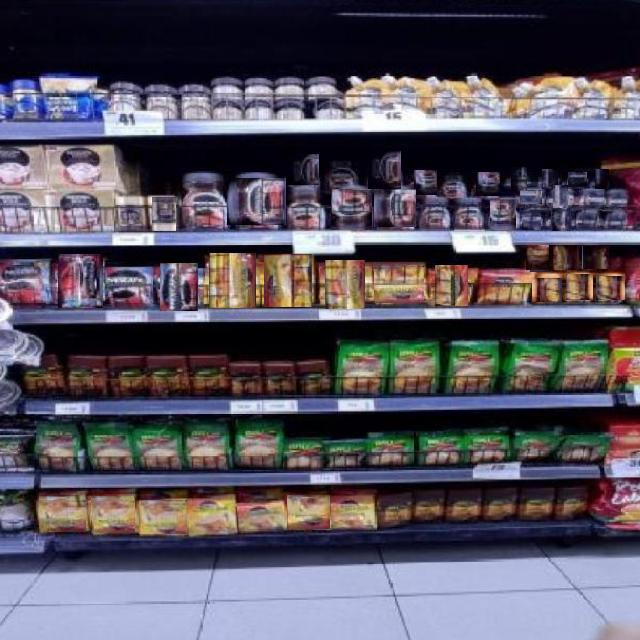Coffee: (228, 177, 286, 225), (182, 172, 229, 230), (208, 253, 256, 308), (264, 253, 312, 307), (57, 255, 103, 308), (0, 260, 46, 304), (325, 260, 365, 309), (374, 264, 424, 303), (38, 494, 86, 532), (188, 496, 236, 534), (478, 270, 530, 305), (161, 263, 198, 311), (105, 268, 152, 305), (331, 188, 372, 230), (91, 495, 135, 533), (138, 500, 187, 534), (286, 188, 325, 229), (374, 189, 416, 227), (286, 495, 330, 529), (331, 497, 376, 529), (435, 265, 468, 306), (369, 150, 401, 189), (237, 503, 283, 530), (325, 153, 360, 186), (287, 154, 319, 185), (455, 198, 485, 231), (116, 197, 145, 231), (421, 198, 450, 230), (490, 197, 516, 231), (151, 196, 176, 231), (532, 278, 562, 302), (442, 170, 468, 197), (565, 275, 593, 300), (525, 244, 549, 272), (596, 277, 625, 300), (552, 246, 579, 270), (583, 245, 609, 269), (413, 170, 437, 195), (476, 171, 500, 196), (576, 210, 602, 229), (551, 207, 571, 231), (604, 212, 629, 231), (552, 185, 568, 209), (522, 210, 541, 230), (512, 166, 527, 191), (610, 190, 633, 205), (541, 169, 558, 189), (581, 190, 605, 204), (520, 189, 542, 204), (567, 171, 587, 187), (595, 170, 609, 189)
